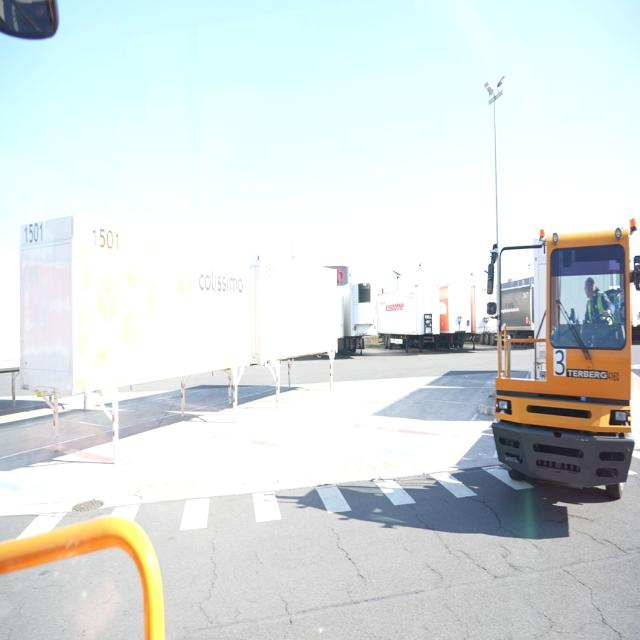Code: (90, 222, 122, 254), (21, 223, 47, 246)
